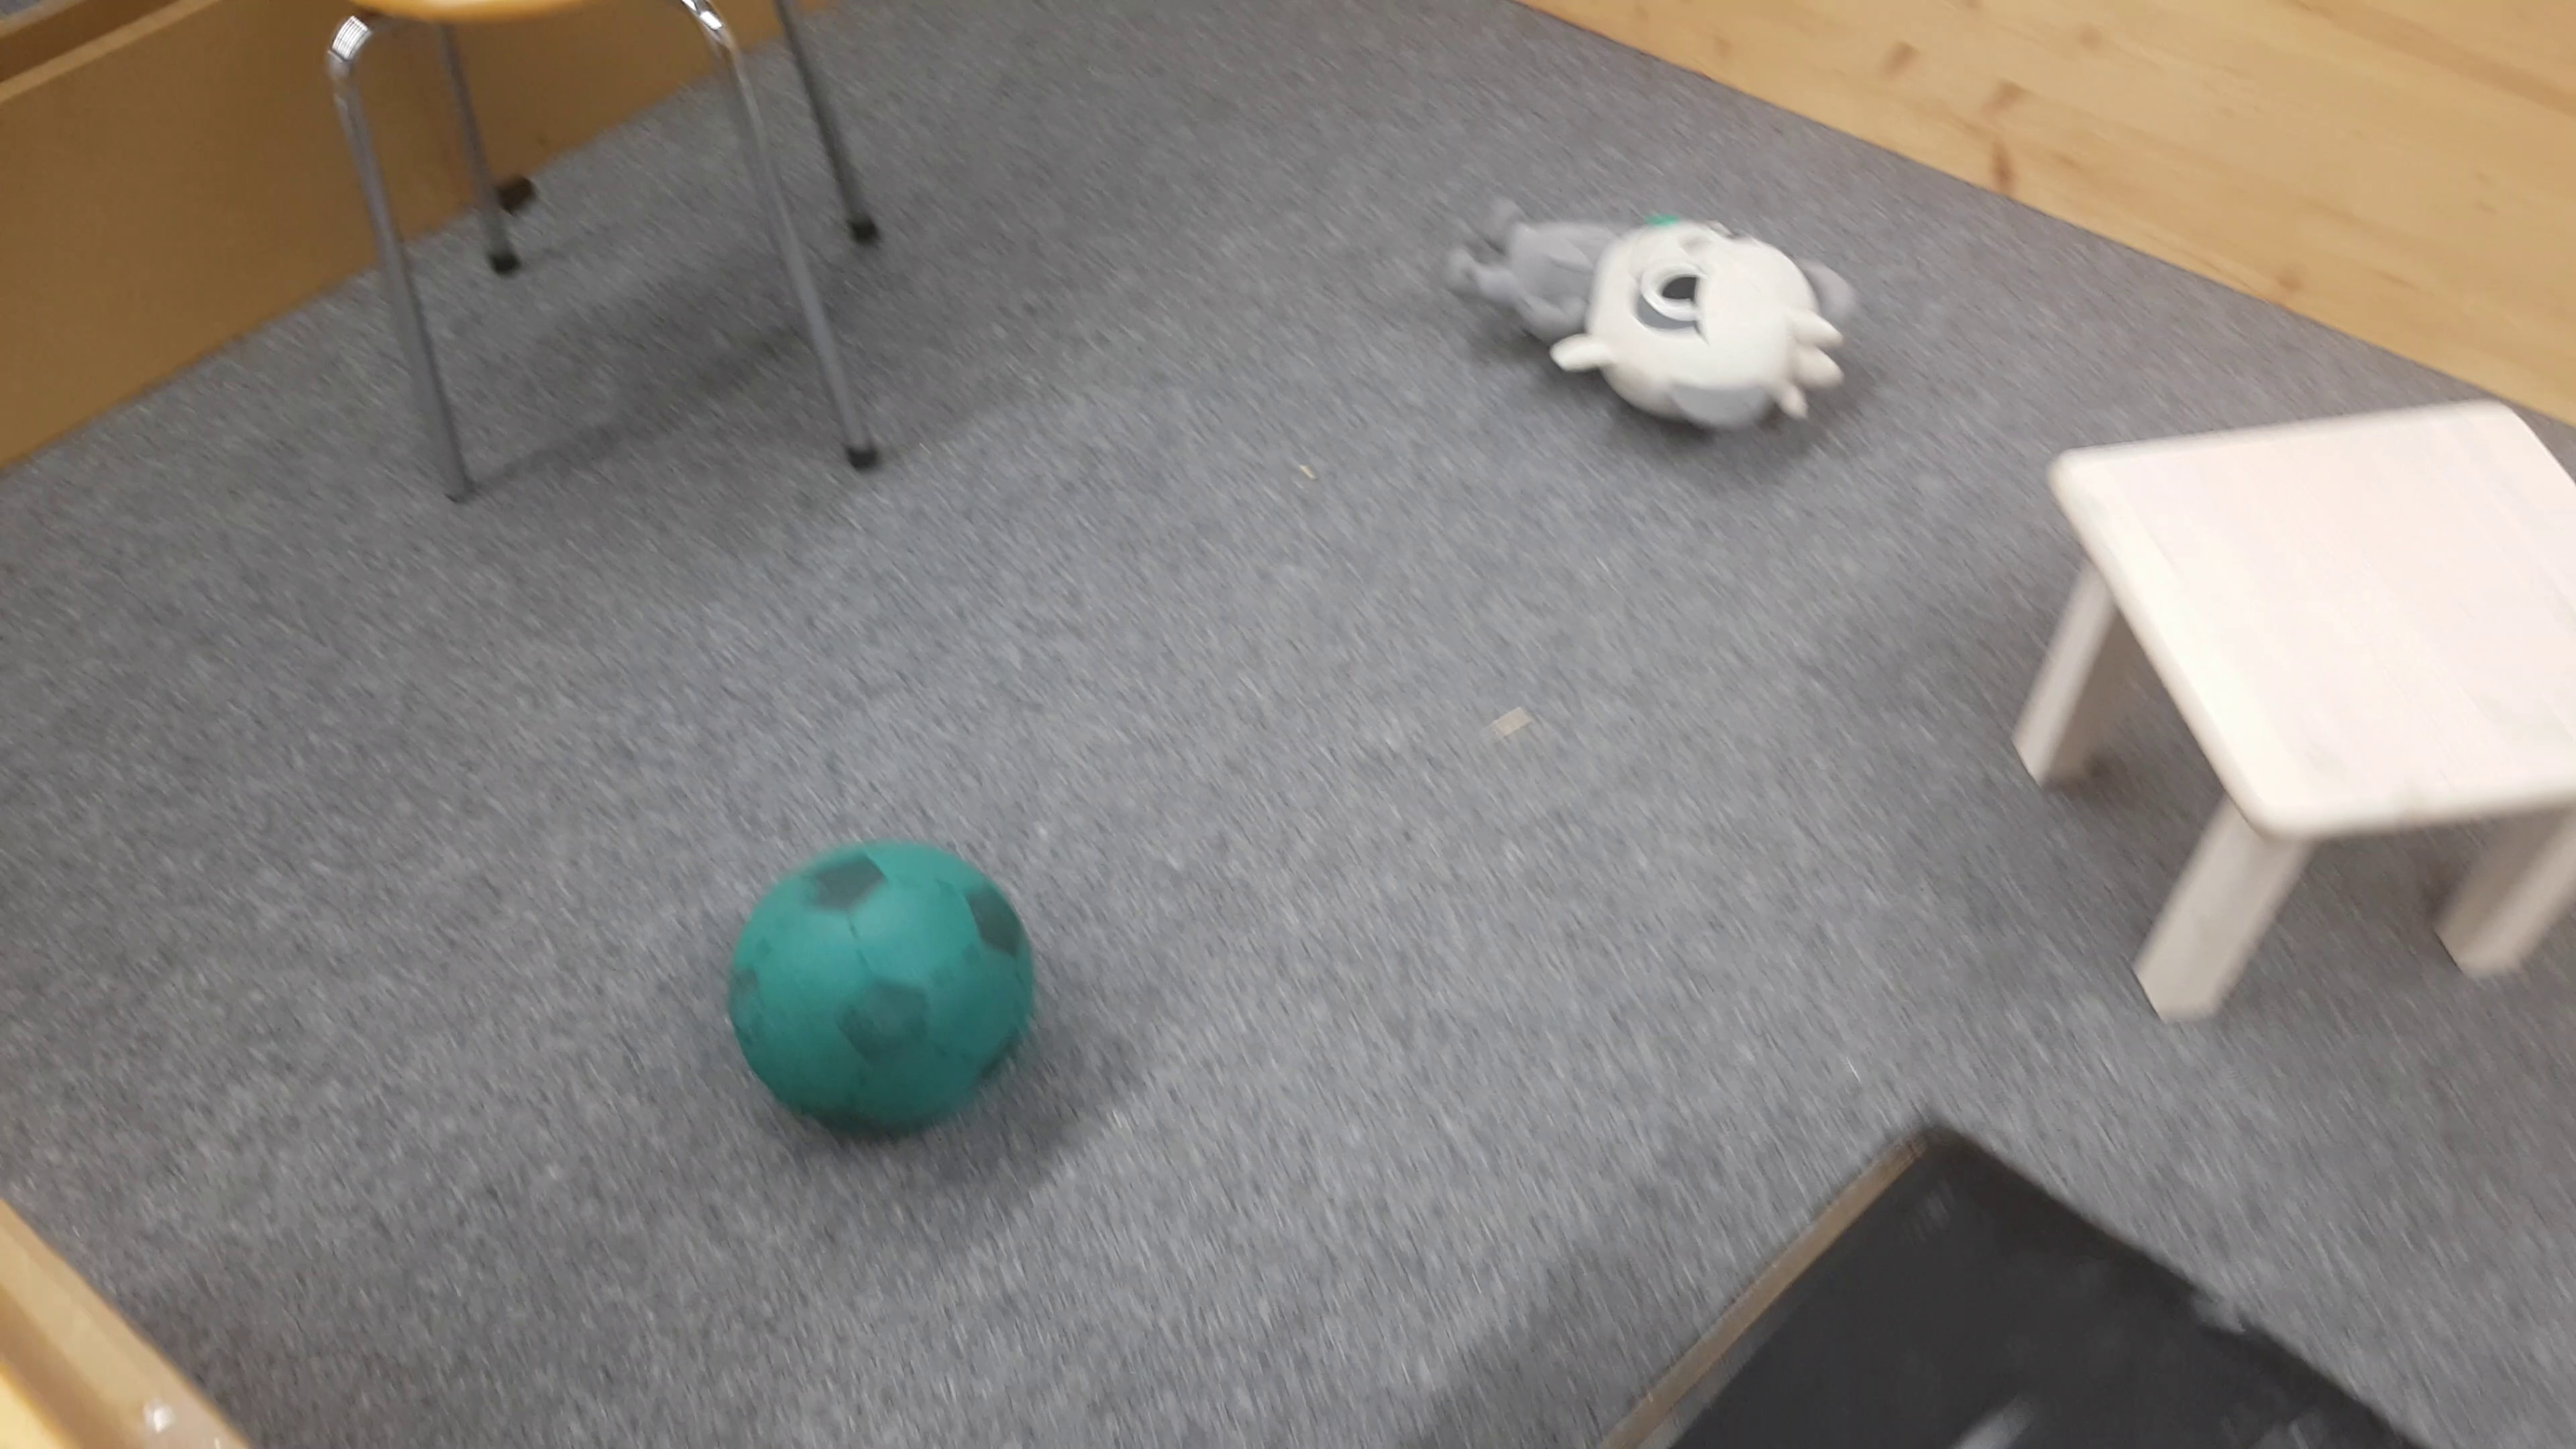grasp: (1453, 186, 1852, 439)
kick: (729, 839, 1030, 1127)
push: (1532, 1123, 2424, 1449)
